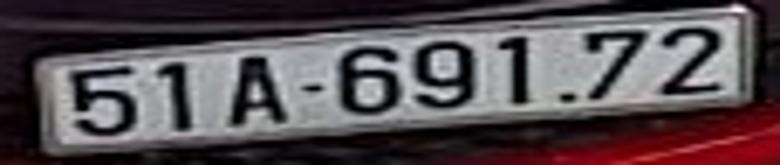-: (296, 82, 323, 93)
.: (561, 94, 576, 102)
1: (157, 64, 194, 133), (500, 34, 530, 106)
2: (662, 28, 723, 95)
5: (68, 68, 136, 136)
6: (337, 47, 399, 112)
7: (584, 30, 644, 98)
9: (410, 40, 476, 109)
A: (226, 58, 287, 126)
